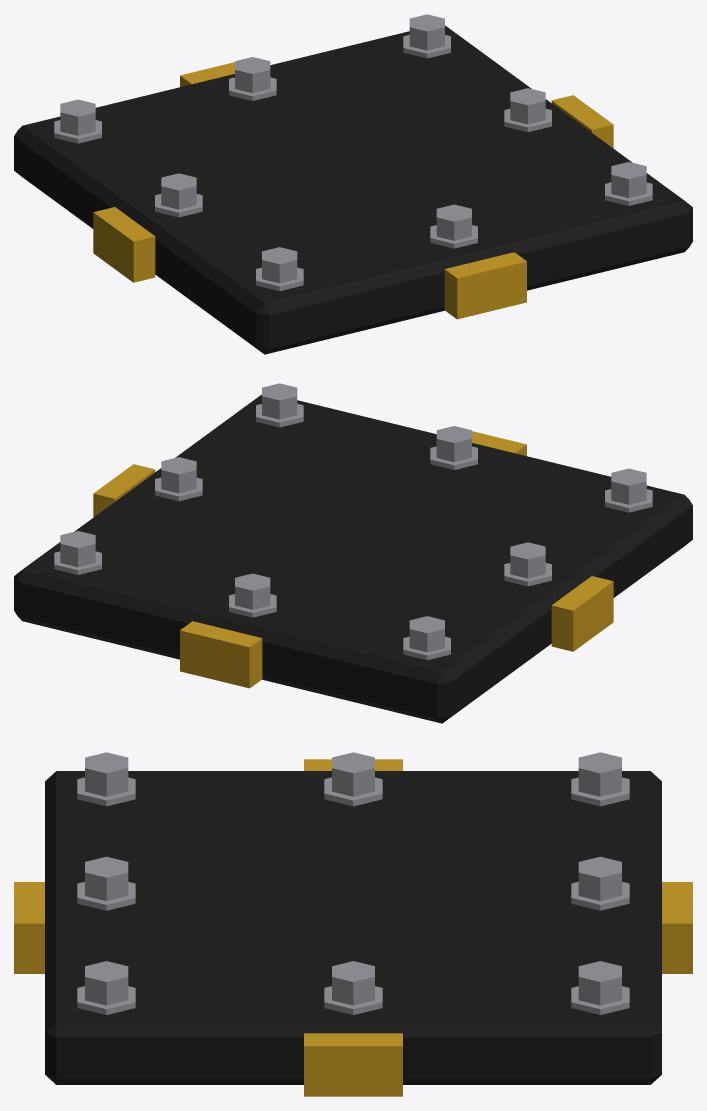
Rendered from mk1_flange.obj.
3 views of the same model, one above another, from view 1: azimuth 30°, elevation 25°; view 2: azimuth 150°, elevation 25°; view 3: azimuth 270°, elevation 25° (orthographic). The views are drawn at different scales.
Parts seen in each view (by area): view 1: mk1_flange; view 2: mk1_flange; view 3: mk1_flange.
Part boxes in pixels (x1,y1,x2,y2): mk1_flange: (14, 14, 692, 354); mk1_flange: (14, 383, 692, 723); mk1_flange: (14, 752, 692, 1096).
Bounding box in the file's own units: 1.76 × 0.264 × 1.76.
